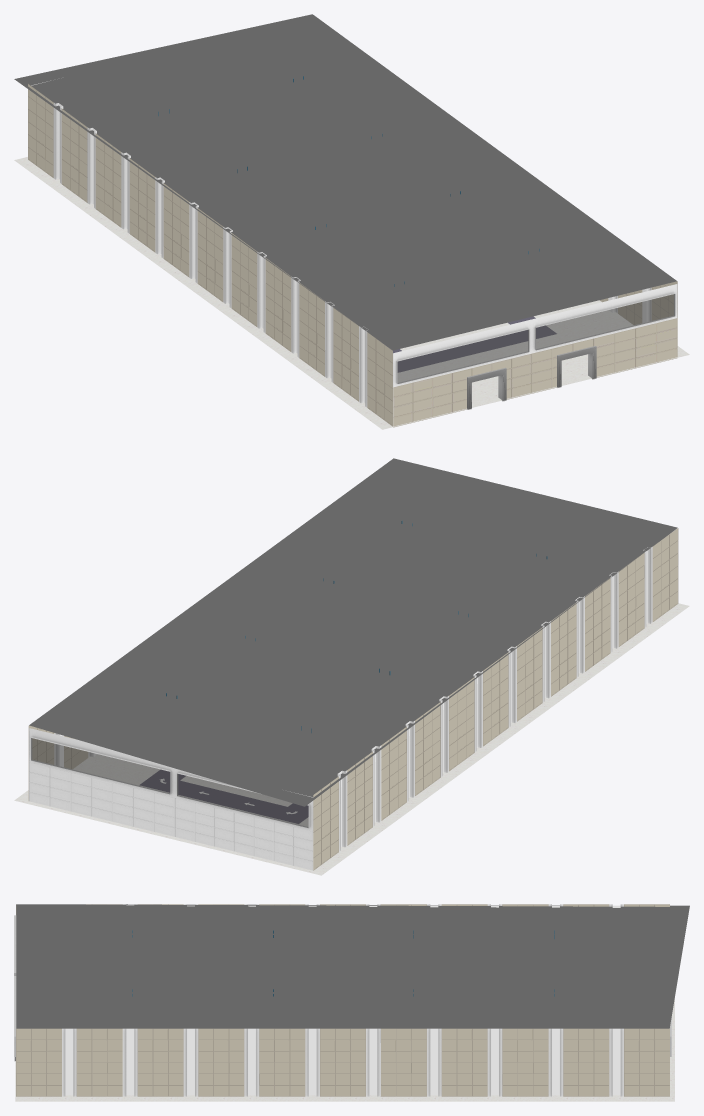
The model's file is hallreduced1.glb.
The picture shows the model from 3 angles, top to bottom: view 1: azimuth 30°, elevation 25°; view 2: azimuth 150°, elevation 25°; view 3: azimuth 270°, elevation 25°; orthographic projection. The views are drawn at different scales.
Visible parts, largest first — view 1: Plane.005, Plane.002, floor, Cube.001, Cube.029, Cube.030, Plane.003, Plane.001, Plane.006, Cube.020, Cube.022; view 2: Plane.005, Plane.002, Cube.028, floor, Cube.027, Cube.024, Plane.001, Plane.003, Plane.006; view 3: Plane.005, Plane.006, floor, Plane.004, Plane.002, Cube.030.
Part boxes in pixels (bbox=[...]): Plane.005: bbox=[14, 14, 676, 350]; Plane.002: bbox=[28, 84, 368, 407]; floor: bbox=[14, 157, 689, 429]; Cube.001: bbox=[393, 318, 677, 427]; Cube.029: bbox=[397, 294, 675, 383]; Cube.030: bbox=[393, 284, 677, 387]; Plane.003: bbox=[367, 332, 392, 426]; Plane.001: bbox=[384, 316, 556, 372]; Plane.006: bbox=[600, 287, 651, 324]; Cube.020: bbox=[557, 346, 596, 387]; Cube.022: bbox=[467, 367, 506, 409]; Plane.005: bbox=[29, 458, 677, 806]; Plane.002: bbox=[313, 547, 652, 870]; Cube.028: bbox=[29, 762, 313, 870]; floor: bbox=[14, 603, 689, 875]; Cube.027: bbox=[31, 738, 308, 827]; Cube.024: bbox=[29, 728, 313, 831]; Plane.001: bbox=[140, 769, 308, 823]; Plane.003: bbox=[652, 528, 678, 621]; Plane.006: bbox=[28, 725, 97, 800]; Plane.005: bbox=[16, 904, 689, 1028]; Plane.006: bbox=[62, 1028, 669, 1096]; floor: bbox=[15, 998, 674, 1101]; Plane.004: bbox=[16, 1028, 61, 1096]; Plane.002: bbox=[86, 904, 669, 907]; Cube.030: bbox=[14, 915, 16, 1056].
Bounding box in the file's own units: 79.42 × 19.71 × 169.
Materials: 27 (14 with a texture image).
